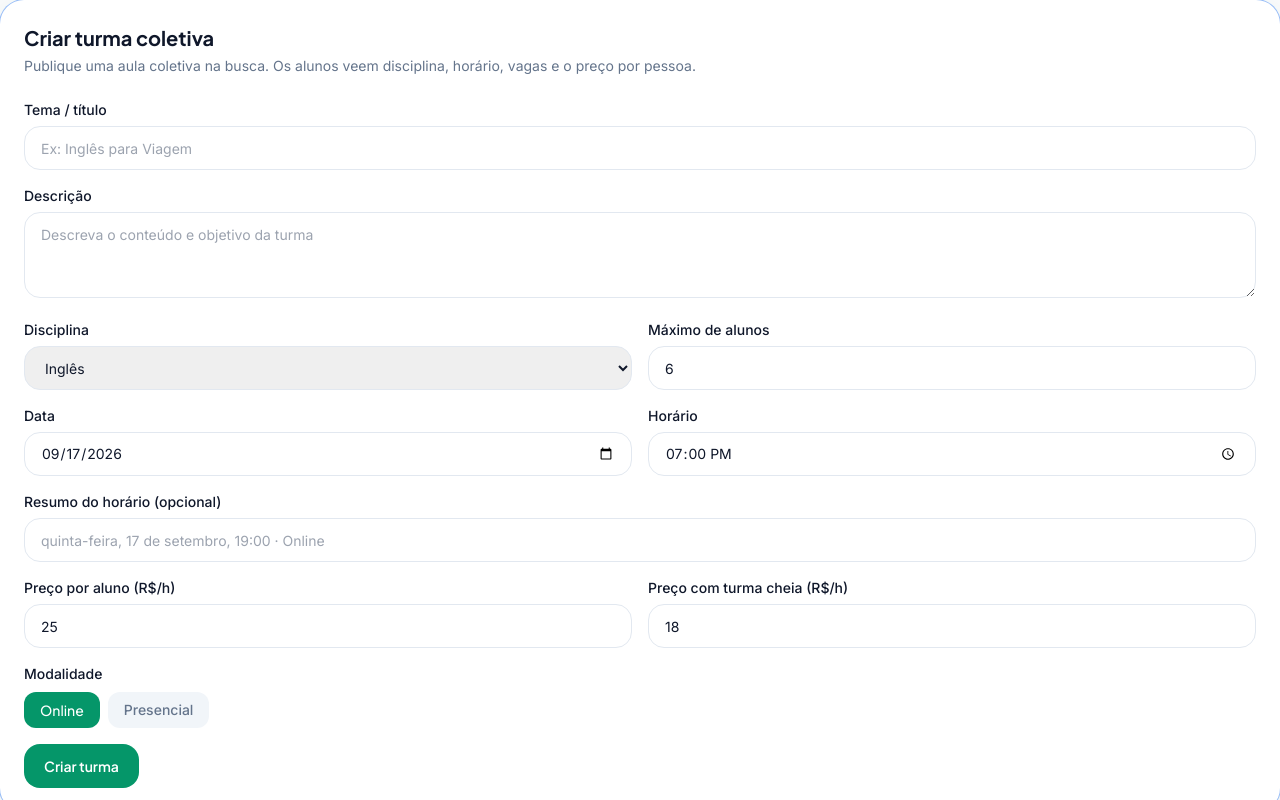
Test: CreateHubForm › asks the tutor to sign in when there is no user
Type "Inglês para Viagem" into the field labelled "Tema / título".
click(640, 148); type("Inglês para Viagem")  # box left=24, top=126, right=1256, bottom=170
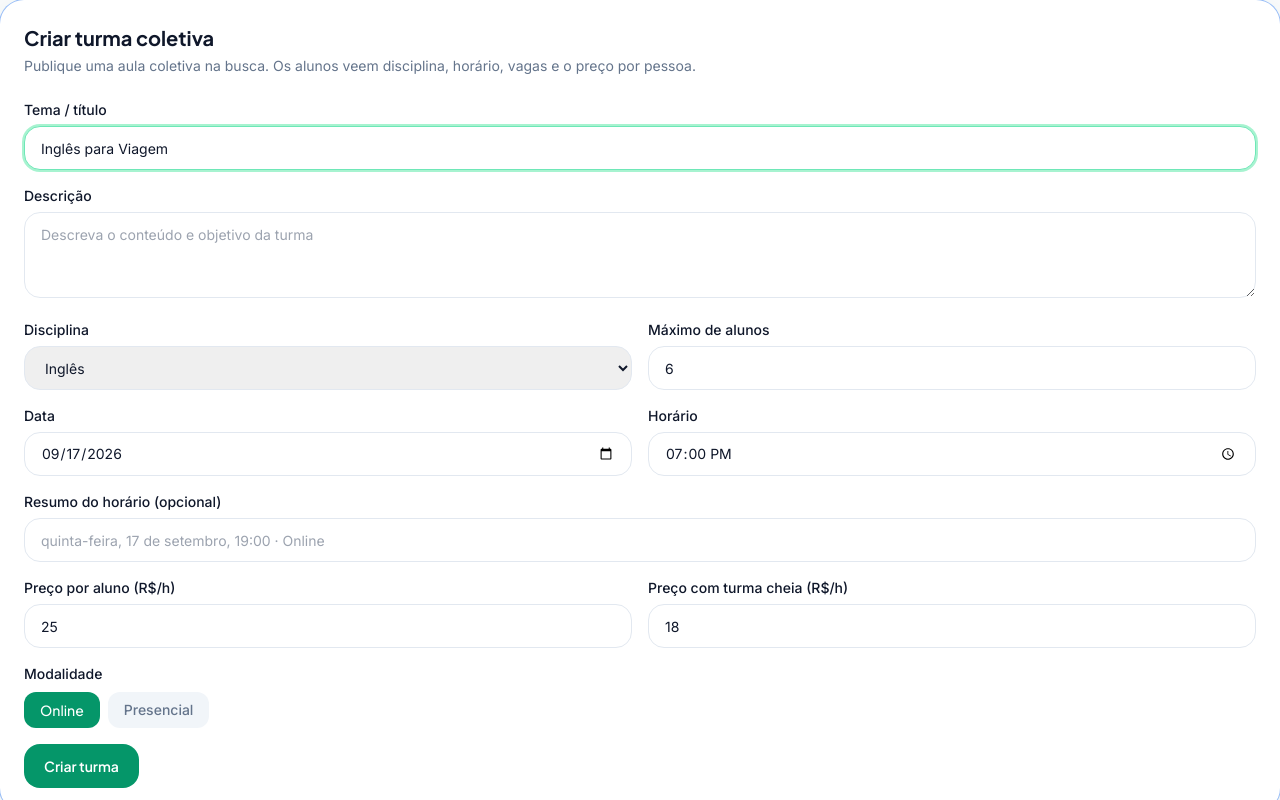
Type "Frases essenciais para aeroporto e hotel." into the text box labelled "Descrição".
click(640, 255); type("Frases essenciais para aeroporto e hotel.")  # box left=24, top=212, right=1256, bottom=298
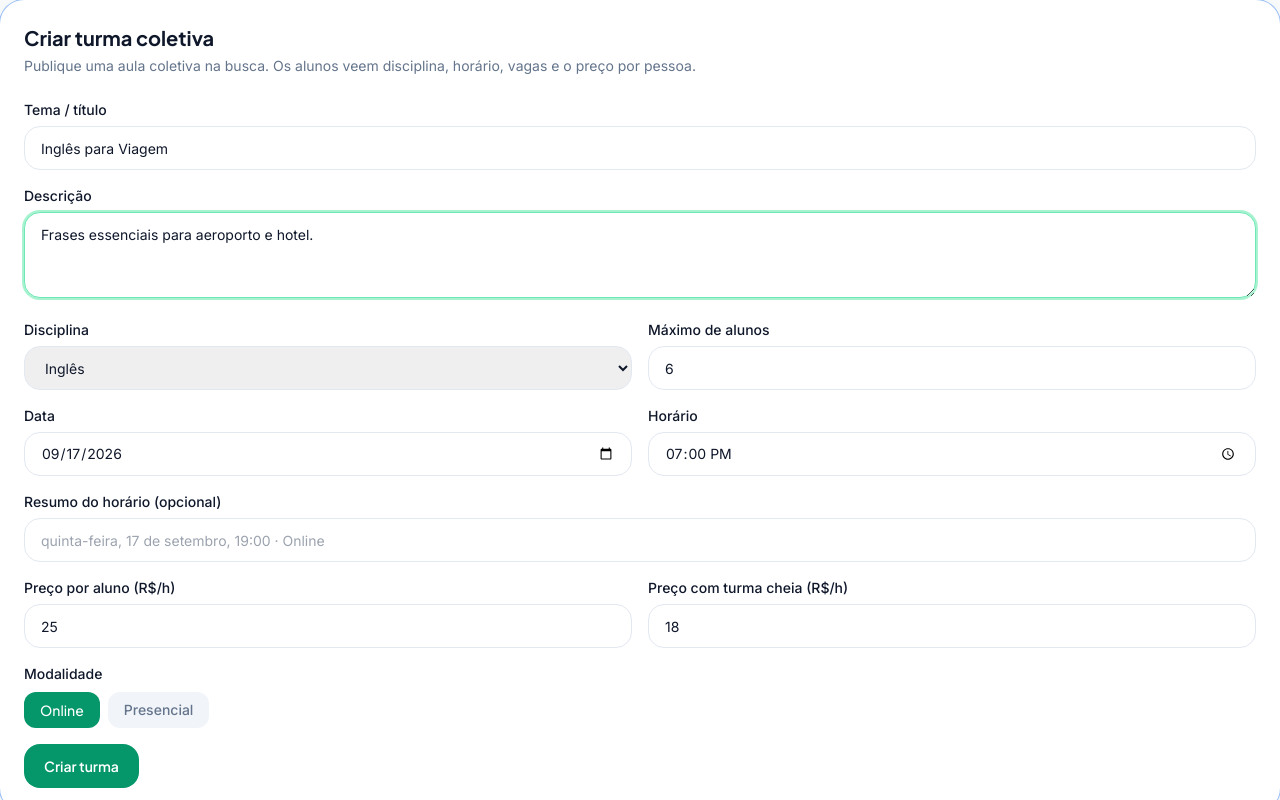
Click the button "Criar turma".
click(81, 766)  # box left=24, top=744, right=139, bottom=788
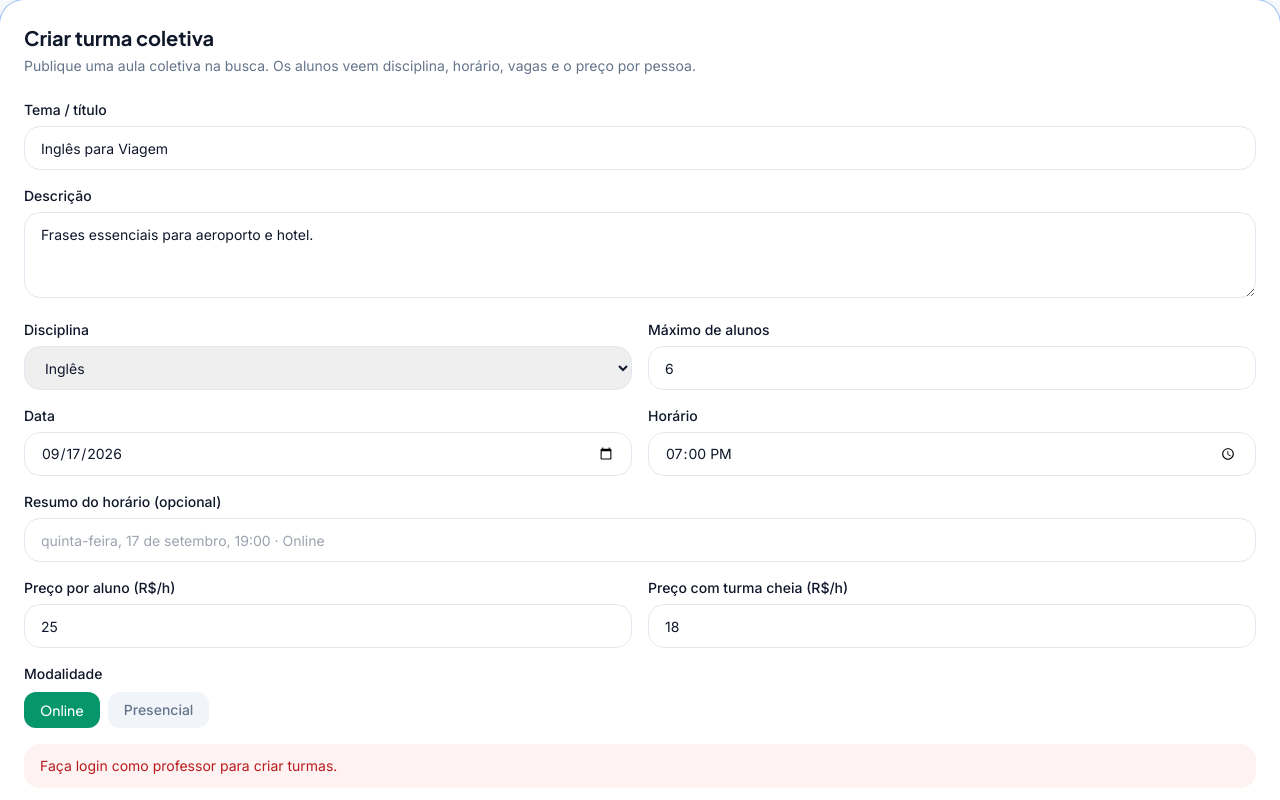
Expected: the message reads "Faça login como professor para criar turmas.", left=40, top=757, right=337, bottom=774
